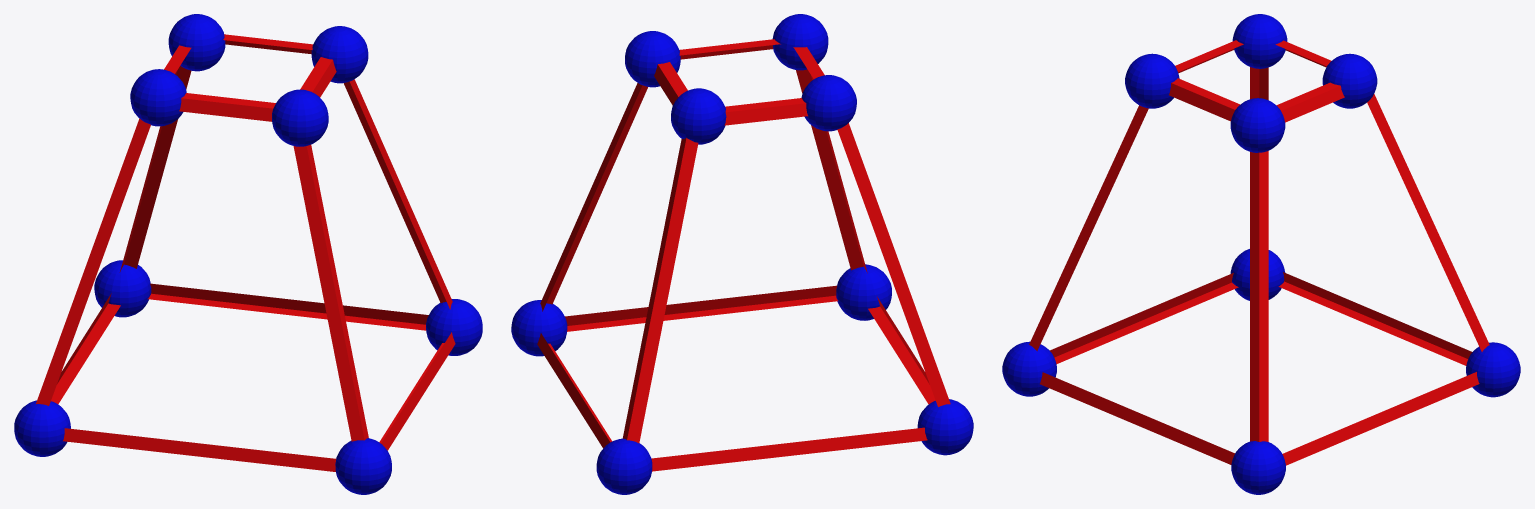
The model's file is tronco-vertice.glb.
3 renders of one model, left to right at view 1: azimuth 30°, elevation 25°; view 2: azimuth 150°, elevation 25°; view 3: azimuth 270°, elevation 25°, orthographic. The views are drawn at different scales.
Visible parts, largest first — view 1: Cone, Sphere.002, Sphere.005, Sphere.001, Sphere.004, Sphere.003, Sphere.006, Sphere.007, Sphere; view 2: Cone, Sphere.006, Sphere.003, Sphere.001, Sphere.004, Sphere.005, Sphere.007, Sphere.002, Sphere; view 3: Cone, Sphere, Sphere.007, Sphere.001, Sphere.002, Sphere.006, Sphere.005, Sphere.003, Sphere.004.
Part boxes in pixels (x1=…): Cone: x1=36, y1=34, x2=455, y2=471; Sphere.002: x1=272, y1=89, x2=328, y2=146; Sphere.005: x1=335, y1=438, x2=391, y2=494; Sphere.001: x1=130, y1=69, x2=186, y2=126; Sphere.004: x1=14, y1=400, x2=70, y2=456; Sphere.003: x1=168, y1=14, x2=225, y2=71; Sphere.006: x1=94, y1=260, x2=151, y2=317; Sphere.007: x1=426, y1=299, x2=482, y2=355; Sphere: x1=311, y1=26, x2=368, y2=83; Cone: x1=537, y1=39, x2=950, y2=471; Sphere.006: x1=596, y1=438, x2=652, y2=494; Sphere.003: x1=671, y1=88, x2=726, y2=144; Sphere.001: x1=801, y1=75, x2=856, y2=131; Sphere.004: x1=917, y1=399, x2=973, y2=455; Sphere.005: x1=836, y1=264, x2=891, y2=320; Sphere.007: x1=511, y1=300, x2=567, y2=356; Sphere.002: x1=772, y1=14, x2=828, y2=70; Sphere: x1=625, y1=31, x2=680, y2=87; Cone: x1=1029, y1=40, x2=1489, y2=465; Sphere: x1=1230, y1=98, x2=1285, y2=152; Sphere.007: x1=1231, y1=441, x2=1285, y2=494; Sphere.001: x1=1232, y1=14, x2=1287, y2=68; Sphere.002: x1=1125, y1=53, x2=1179, y2=108; Sphere.006: x1=1466, y1=342, x2=1520, y2=397; Sphere.005: x1=1002, y1=341, x2=1056, y2=396; Sphere.003: x1=1322, y1=53, x2=1377, y2=108; Sphere.004: x1=1230, y1=249, x2=1285, y2=300.
Bounding box in the file's own units: 1.49 × 1.09 × 1.51.
